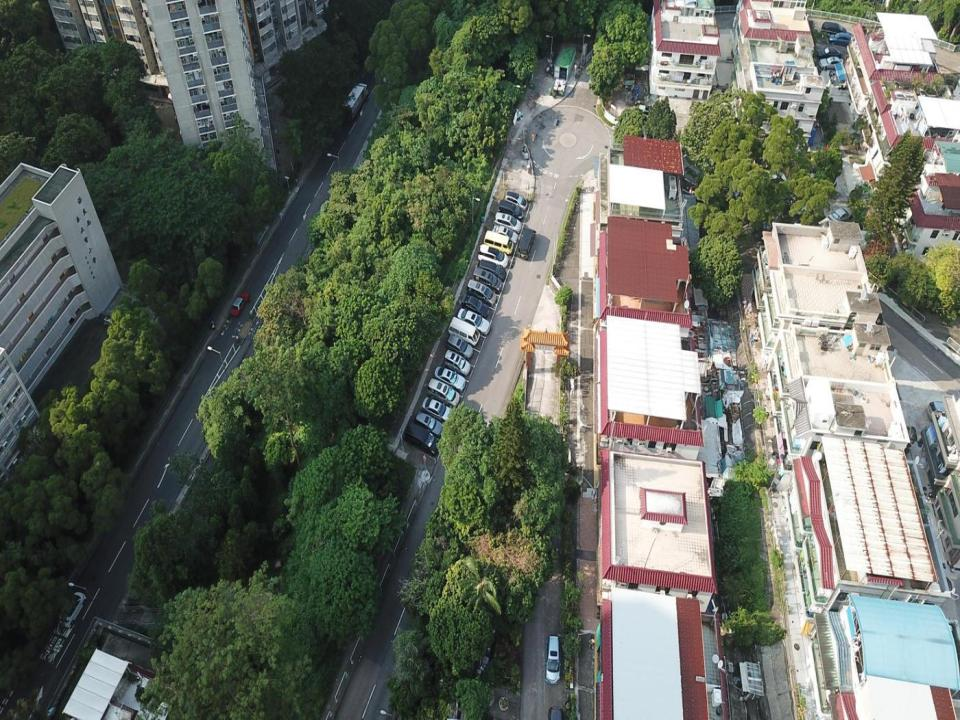car: (57, 590, 88, 628), (426, 377, 460, 410), (456, 307, 490, 336), (434, 365, 466, 393), (421, 396, 454, 423), (544, 634, 561, 684), (415, 411, 444, 438), (444, 348, 471, 377), (461, 292, 490, 319), (477, 244, 508, 269), (445, 334, 473, 359), (477, 258, 506, 282), (491, 224, 519, 247), (493, 212, 522, 234), (926, 399, 953, 422), (228, 291, 250, 318), (498, 199, 524, 221), (504, 190, 528, 212), (828, 206, 854, 226), (818, 55, 845, 71), (828, 31, 854, 47), (820, 21, 848, 35), (815, 45, 842, 59)
truck: (342, 82, 369, 122)
van: (404, 420, 439, 456), (448, 316, 480, 348), (466, 279, 496, 308), (472, 267, 502, 294), (483, 229, 514, 255), (517, 226, 536, 261)
